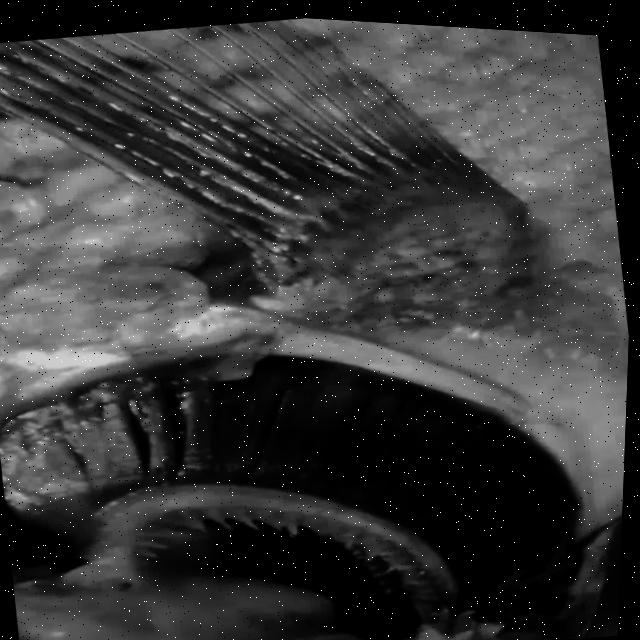Non-Fresh: (0, 288, 590, 640)
